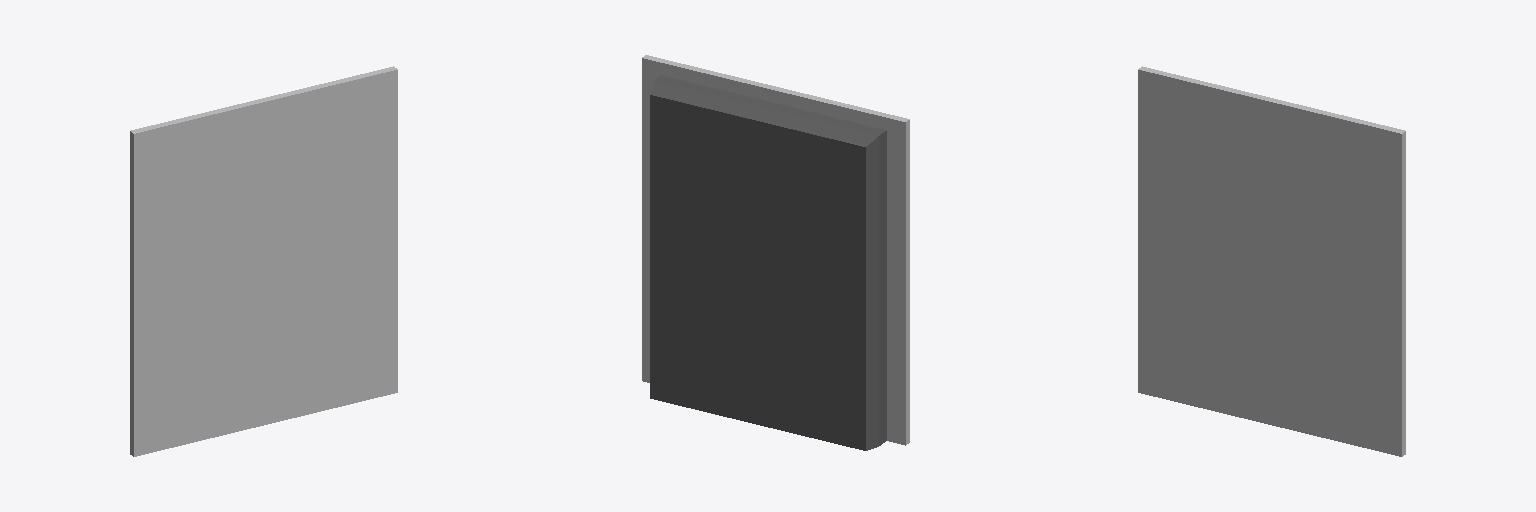
File: dishwasherdoor.obj
The picture shows the model from 3 angles: view 1: azimuth 30°, elevation 25°; view 2: azimuth 150°, elevation 25°; view 3: azimuth 330°, elevation 25°; orthographic projection.
Parts seen in each view (by area): view 1: kitchen04_Cube.008; view 2: kitchen04_Cube.008; view 3: kitchen04_Cube.008.
Part boxes in pixels (x1,y1,x2,y2): kitchen04_Cube.008: (130,66,397,456); kitchen04_Cube.008: (642,55,909,450); kitchen04_Cube.008: (1138,66,1405,456).
Bounding box in the file's own units: 0.5999 × 0.7014 × 0.0786.